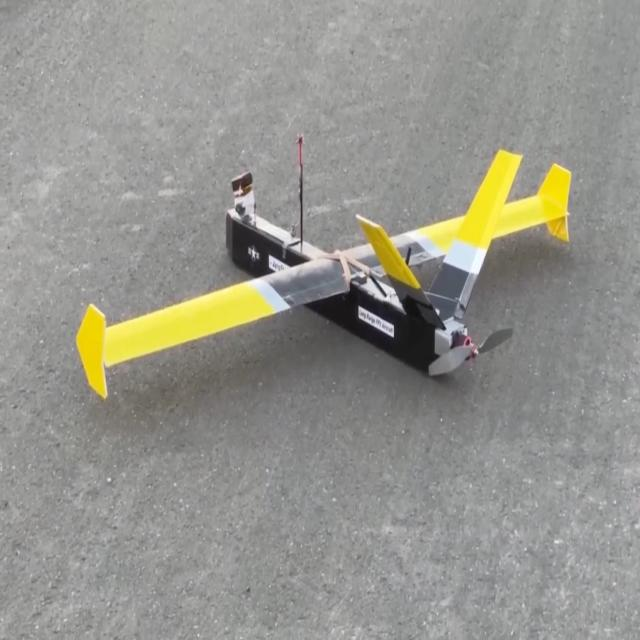iha: (53, 105, 571, 400)
